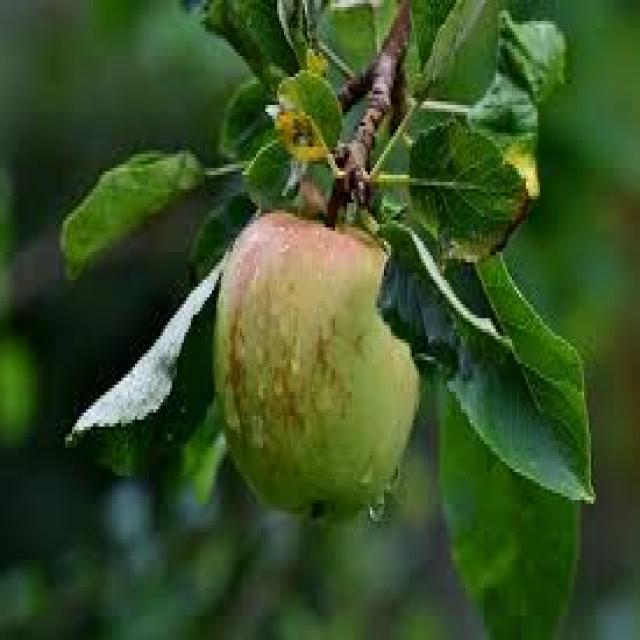apple: (210, 206, 428, 523)
